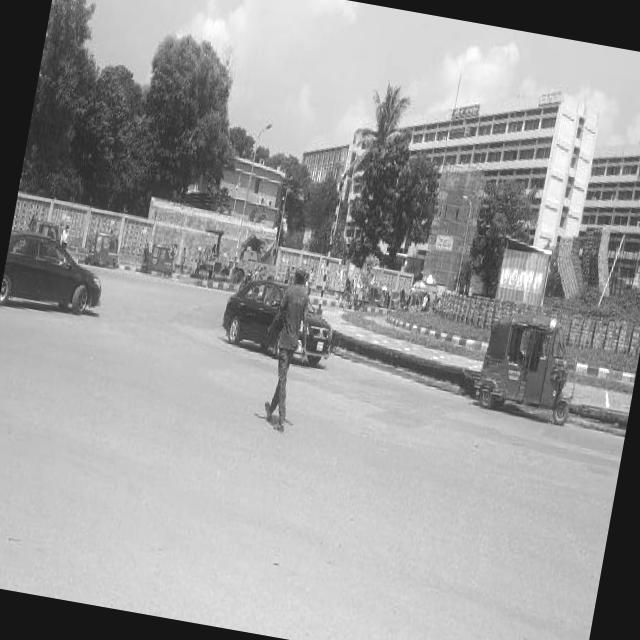car: (218, 270, 342, 362), (2, 226, 111, 316)
motorcycle: (469, 308, 587, 431), (84, 229, 123, 270), (141, 238, 177, 280), (386, 284, 412, 315), (362, 280, 383, 302)
